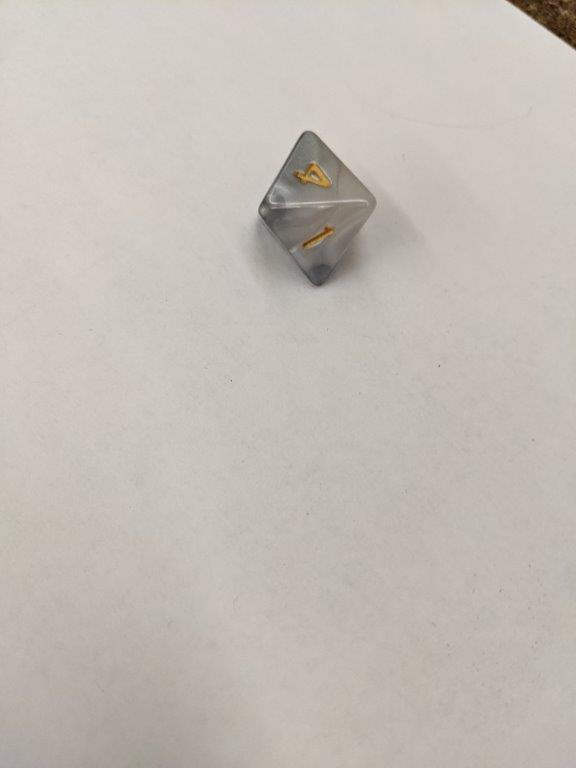d8-4: (260, 129, 382, 291)
